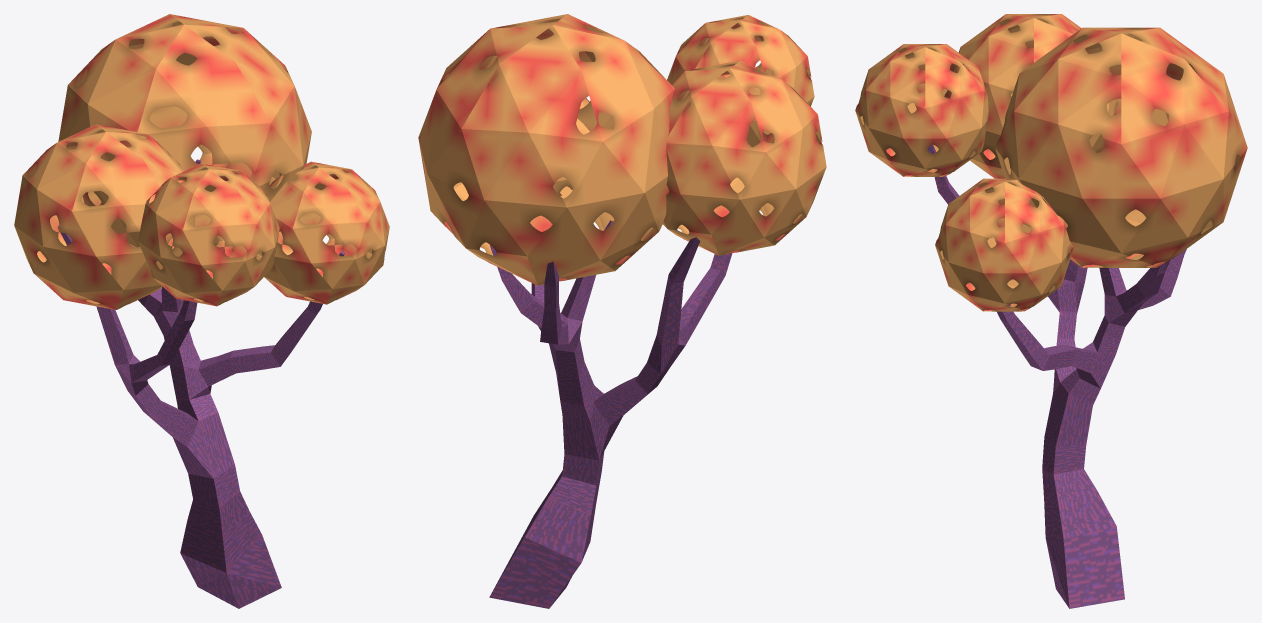
Rendered from Tree_Test1.obj.
3 renders of one model, left to right at view 1: azimuth 30°, elevation 25°; view 2: azimuth 150°, elevation 25°; view 3: azimuth 270°, elevation 25°, orthographic. The views are drawn at different scales.
Parts seen in each view (by area): view 1: Tree_2_Cube; view 2: Tree_2_Cube; view 3: Tree_2_Cube.
Boxes of the visible parts, left/top/right/bottom form: Tree_2_Cube: left=14, top=14, right=389, bottom=608; Tree_2_Cube: left=418, top=14, right=826, bottom=608; Tree_2_Cube: left=855, top=14, right=1247, bottom=608.
Bounding box in the file's own units: 10.89 × 17.54 × 11.43.
